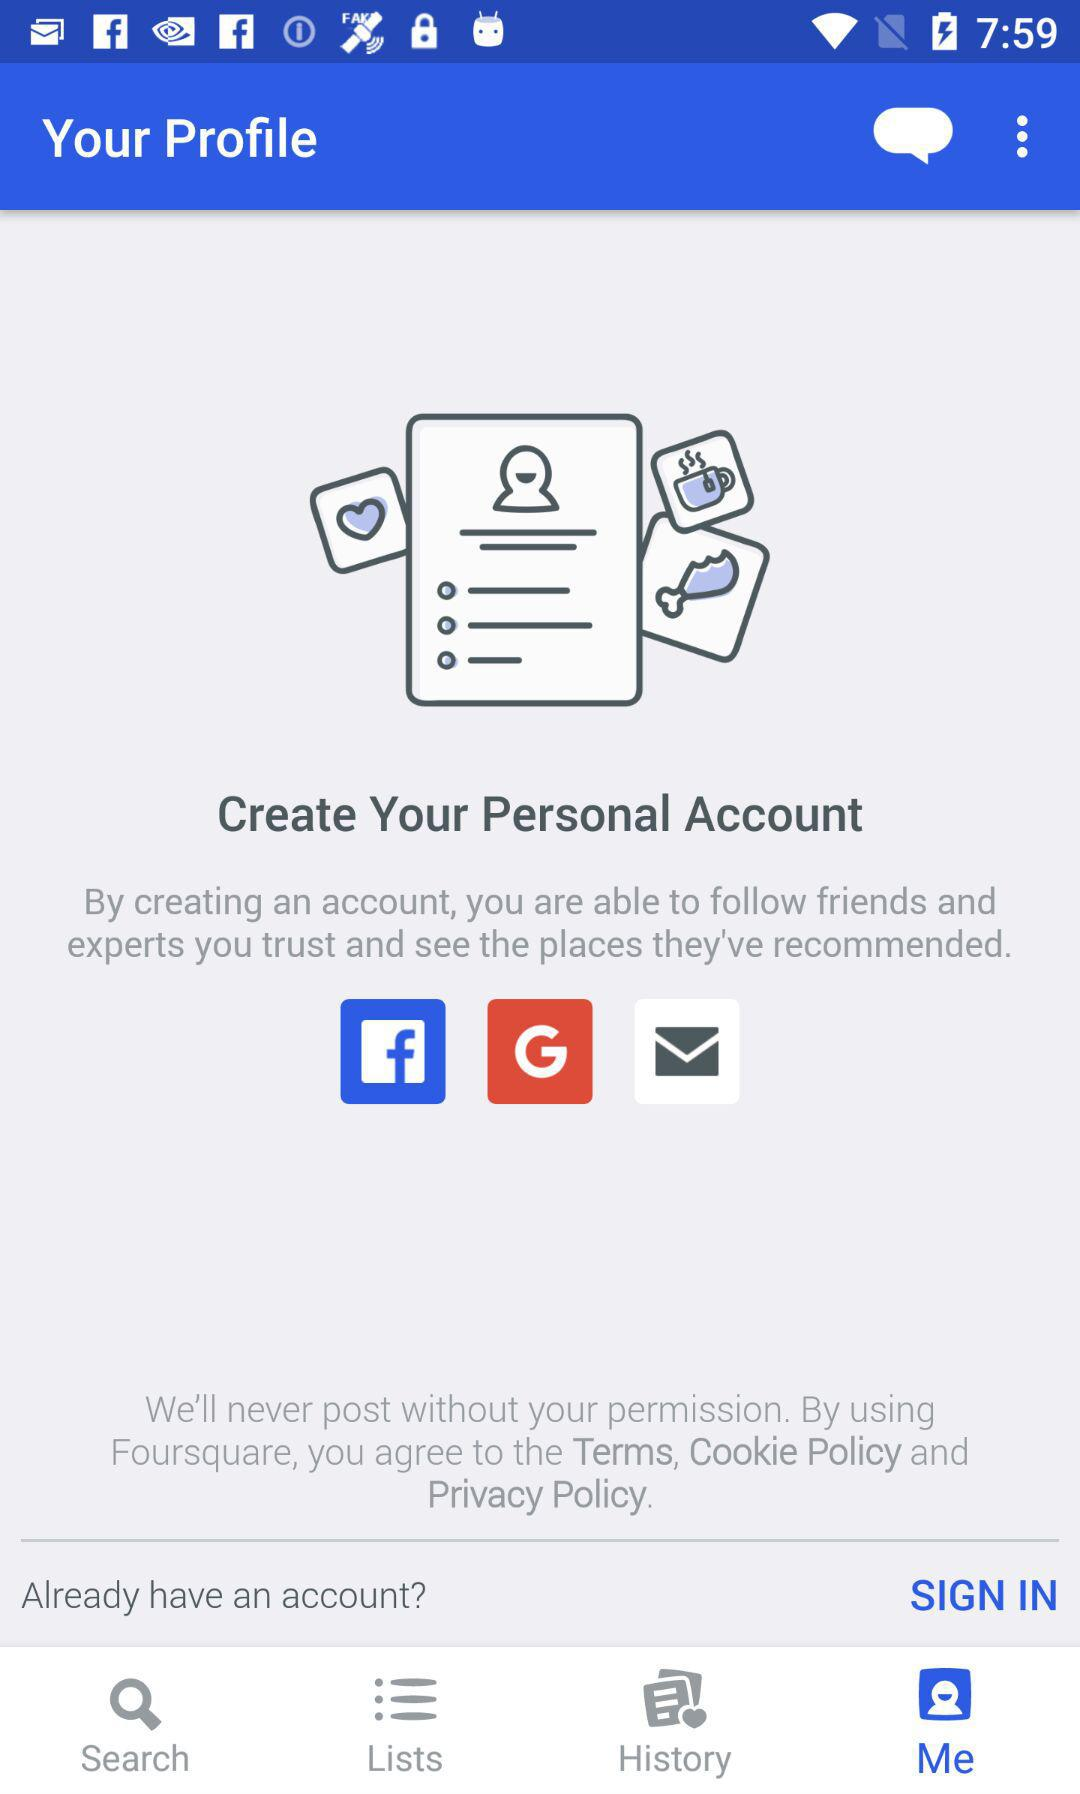Icon: (487, 998, 594, 1105), (634, 998, 740, 1105), (341, 998, 447, 1105), (872, 108, 954, 167), (642, 1668, 708, 1730), (110, 1677, 164, 1732), (374, 1677, 438, 1722), (1015, 114, 1030, 160)
Image: (307, 413, 773, 709), (919, 1667, 972, 1721)
Text: (113, 1392, 969, 1517), (68, 885, 1011, 966), (219, 793, 863, 833), (22, 1577, 427, 1617), (41, 115, 318, 160), (911, 1577, 1057, 1612), (619, 1743, 732, 1780), (82, 1743, 190, 1772), (369, 1744, 445, 1773), (919, 1741, 975, 1775)
Toolbar: (1, 64, 1080, 210)
UpperTaskBar: (1, 1, 1080, 64)
